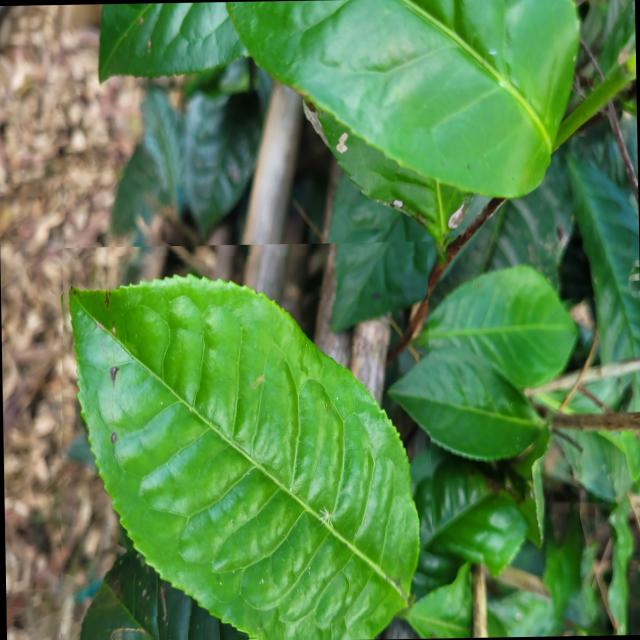Category D(7+ days, Not for Tea): (52, 241, 432, 640)
